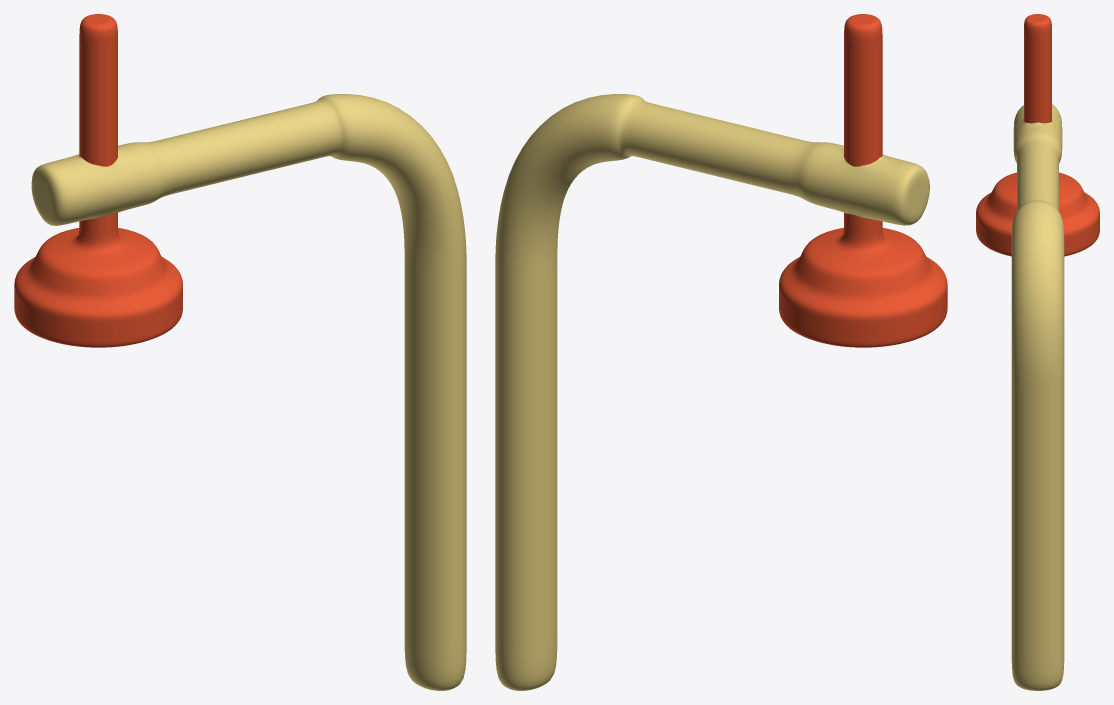
File: Pump.fbx
3 views of the same model, side by side, from view 1: azimuth 30°, elevation 25°; view 2: azimuth 150°, elevation 25°; view 3: azimuth 270°, elevation 25° (orthographic). The views are drawn at different scales.
Visible parts, largest first — view 1: rod, pump; view 2: rod, pump; view 3: rod, pump.
Part boxes in pixels (box(x1,y1,x2,y2)): rod: box(31, 94, 466, 690); pump: box(14, 14, 182, 347); rod: box(495, 94, 929, 690); pump: box(779, 14, 947, 347); rod: box(1011, 104, 1064, 690); pump: box(976, 14, 1099, 256).
Size of the model in its own units: 779 by 1272 by 262.
